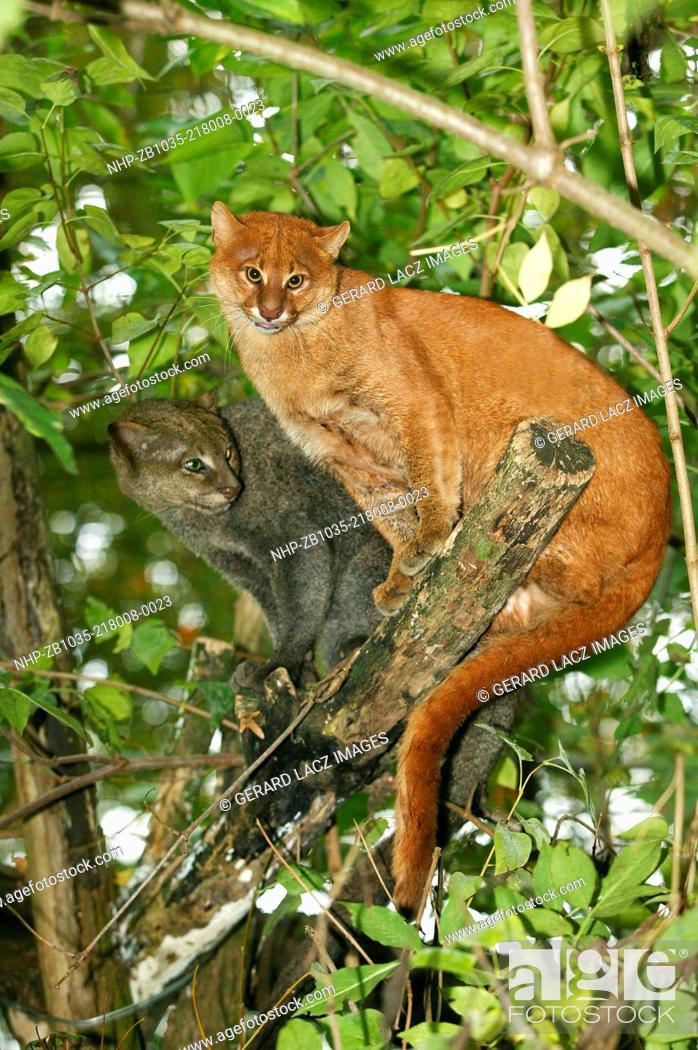Jaguarundi: (201, 187, 674, 913), (107, 384, 408, 671)
